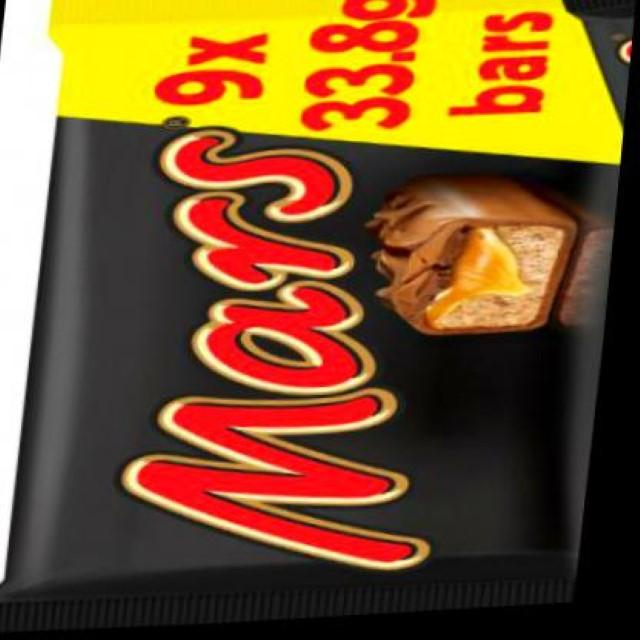mars_chocolate: (75, 28, 628, 595)
